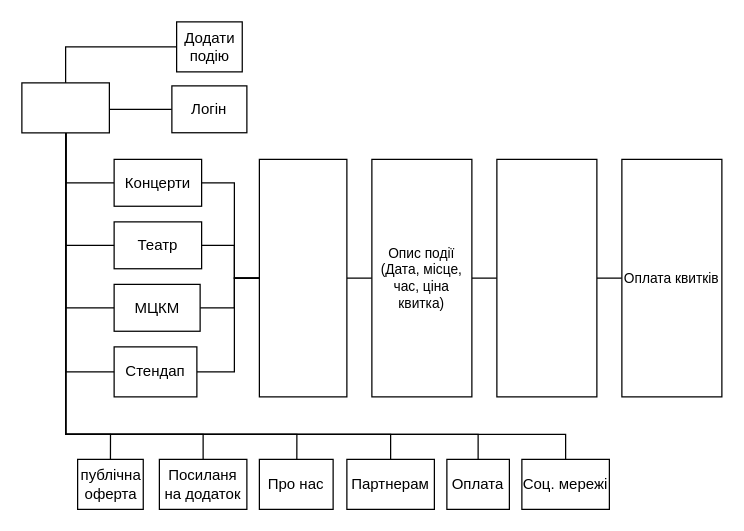
Some shapes in this 744 by 531 pixel diagram are drawn without their labels. The shapes that lost their labels are listed below. From the top down, each one's centre as x and y in pixels, then its label:
At (65,107): "Домашня сторінка".
At (302,277): "Сторінка з афішами подій за типом".
At (546,277): "Вибір місця за схематичним зображенням приміщення".
